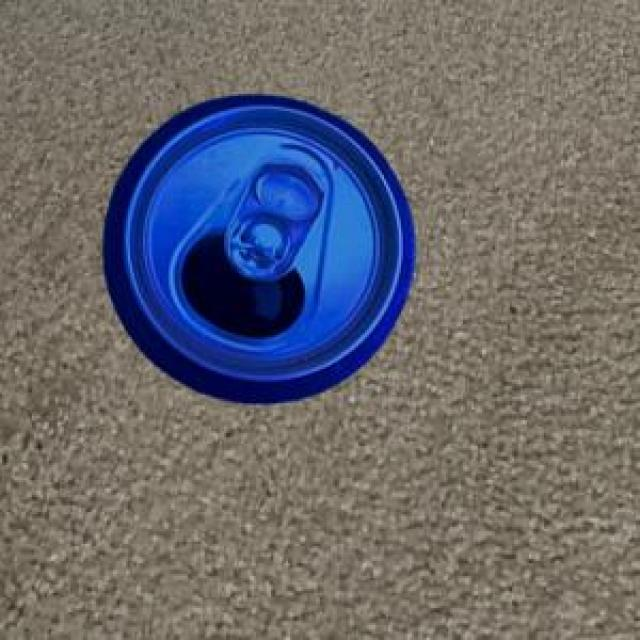Can: (101, 93, 409, 400)
